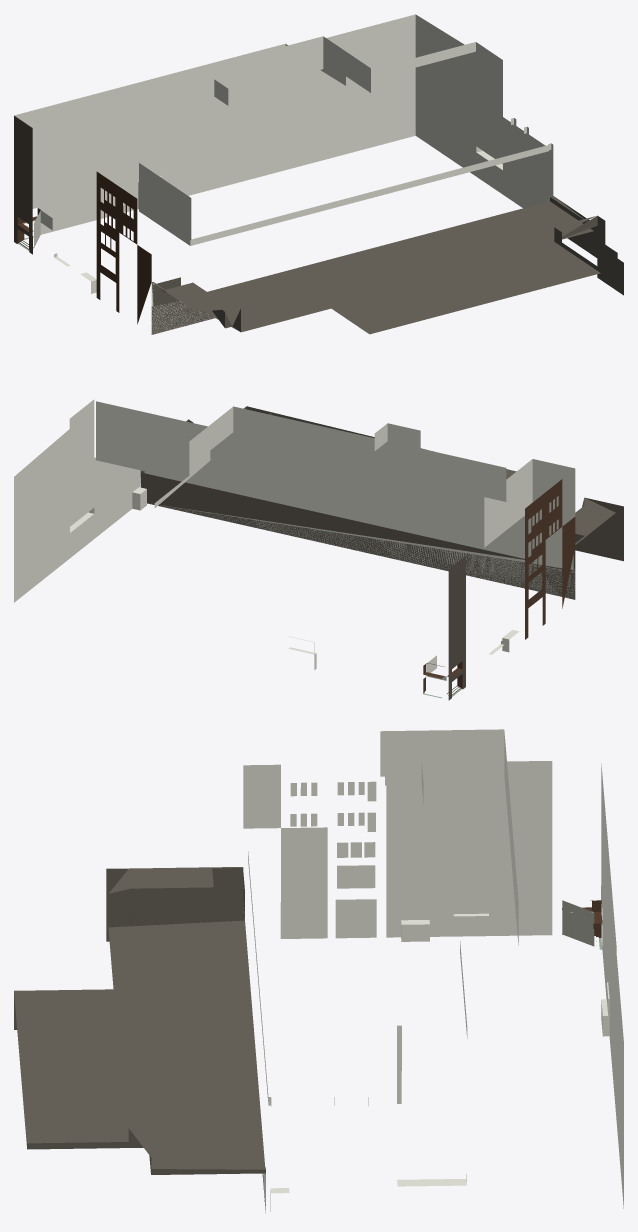
The model's file is the-lovemans-building-and-garage.glb.
The picture shows the model from 3 angles, top to bottom: view 1: azimuth 30°, elevation 25°; view 2: azimuth 150°, elevation 25°; view 3: azimuth 270°, elevation 25°; orthographic projection. The views are drawn at different scales.
Visible parts, largest first — view 1: LOD0; view 2: LOD0; view 3: LOD0.
Part boxes in pixels (bbox=[...]): LOD0: bbox=[14, 14, 623, 334]; LOD0: bbox=[14, 399, 623, 700]; LOD0: bbox=[14, 729, 623, 1213].
Size of what is drawn, in the model's own units: 76.18 by 30.21 by 68.55.
2 materials, 2 textured.
